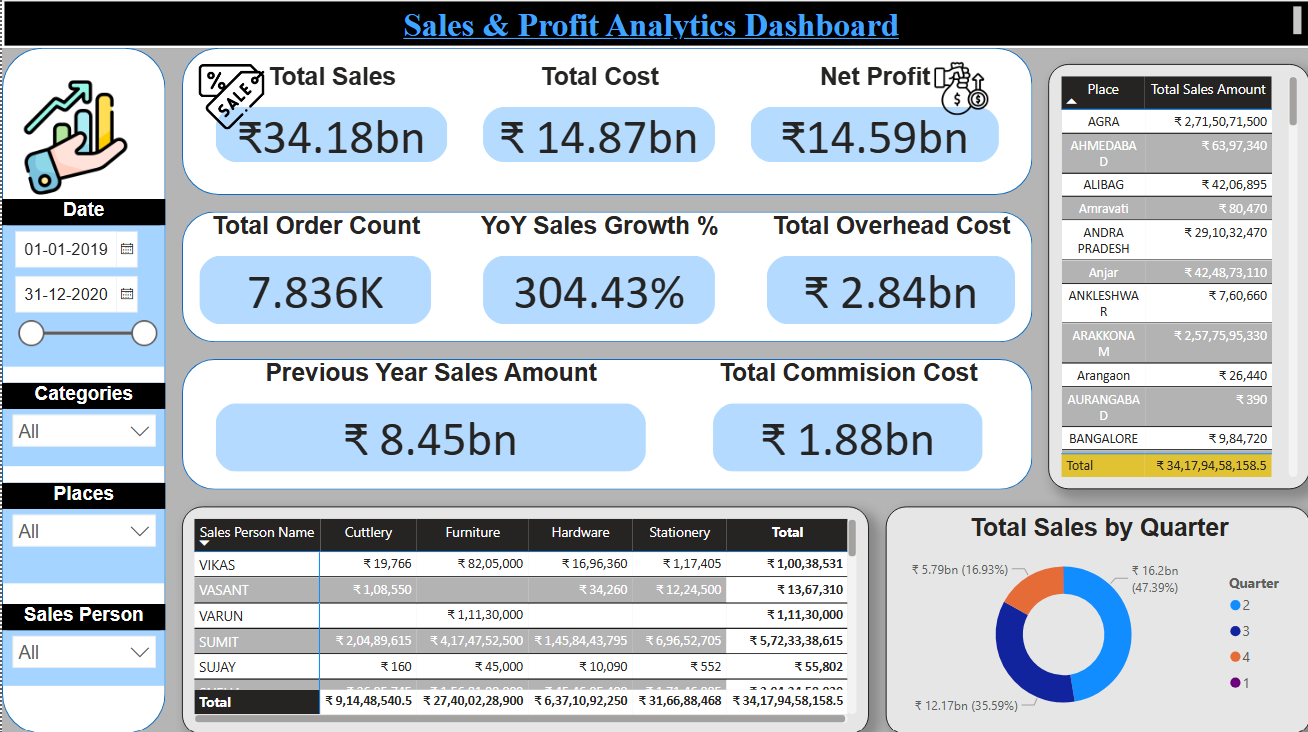

This screenshot's page, from the dashboard's own definition file:
{"tool":"powerbi","page":{"name":"KPI Reports","canvas":[1280,720],"ordinal":0},"visuals":[{"type":"textbox","box":[0,0,1280,48],"z":0},{"type":"shape","box":[0,48,160,672],"z":0,"group":"g4"},{"type":"group","id":"g1","title":"Group 4","box":[176,48,832,144],"z":0,"group":"g6"},{"type":"shape","box":[176,208,832,128],"z":0,"group":"g3"},{"type":"shape","box":[176,352,832,128],"z":0,"group":"g7"},{"type":"shape","box":[176,48,832,144],"z":1000,"group":"g1"},{"type":"image","box":[112,64,224,64],"z":1000,"group":"g6"},{"type":"pivotTable","fields":{"Values":["Fact_sales.Total Sales"],"Columns":["Fact_sales.Category"],"Rows":["Commission.Sales Person Name"]},"box":[176,496,672,224],"z":1000},{"type":"slicer","title":"Date","fields":{"Values":["Dim_Date.Date"]},"box":[0,195.5,160,163.9],"z":2000,"group":"g4"},{"type":"image","box":[640,272,224,64],"z":2000},{"type":"cardVisual","title":"Total Commision Cost","fields":{"Data":["Fact_sales.Total Commission"]},"box":[678.3,352,298.3,128],"z":2000,"group":"g7"},{"type":"cardVisual","title":"Total Sales","fields":{"Data":["Fact_sales.Total Sales"]},"box":[191.4,62.4,261.9,115.2],"z":3000,"group":"g1"},{"type":"cardVisual","title":"Previous Year Sales Amount","fields":{"Data":["Fact_sales.Sales SPLY"]},"box":[191.7,352,455.2,128],"z":3000,"group":"g7"},{"type":"donutChart","fields":{"Y":["Fact_sales.Total Sales"],"Category":["Fact_sales.Quarter"]},"box":[864,496,416,224],"z":3000},{"type":"tableEx","fields":{"Values":["Fact_sales.Place","Sum(Fact_sales.Taxable Value)"]},"box":[1024,64,256,416],"z":4000},{"type":"cardVisual","title":"Total Overhead Cost","fields":{"Data":["Apr.Total Overhead Cost"]},"box":[730.7,208,277.3,128],"z":4000,"group":"g3"},{"type":"group","id":"g2","title":"Group 2","box":[0,48,160,672],"z":5000},{"type":"cardVisual","title":"Total Cost","fields":{"Data":["Fact_sales.Total Cost"]},"box":[453.3,62.4,261.9,115.2],"z":5000,"group":"g1"},{"type":"image","box":[16,80,112,112],"z":6000},{"type":"group","id":"g3","title":"Group 3","box":[176,208,832,128],"z":7000},{"type":"slicer","title":"Categories","fields":{"Values":["Fact_sales.Category"]},"box":[0,375.8,160,82],"z":7001,"group":"g4"},{"type":"group","id":"g4","title":"Group 1","box":[0,48,160,672],"z":8000,"group":"g2"},{"type":"cardVisual","title":"Net Profit","fields":{"Data":["Fact_sales.Net Profit"]},"box":[715.3,62.4,277.3,115.2],"z":8000,"group":"g1"},{"type":"group","id":"g5","title":"Group 5","box":[176,352,832,128],"z":8000},{"type":"group","id":"g6","title":"Group 7","box":[112,48,896,144],"z":9000},{"type":"cardVisual","title":"YoY Sales Growth %","fields":{"Data":["Fact_sales.YoY Sales Growth %"]},"box":[453.3,208,261.9,128],"z":9000,"group":"g3"},{"type":"image","box":[843,61,192,53],"z":10000},{"type":"cardVisual","title":"Total Order Count","fields":{"Data":["Fact_sales.Order Count"]},"box":[176,208,261.9,128],"z":10000,"group":"g3"},{"type":"group","id":"g7","title":"Group 6","box":[176,352,832,128],"z":10002,"group":"g5"},{"type":"slicer","title":"Places","fields":{"Values":["Fact_sales.Place"]},"box":[0,474.1,160,98.3],"z":11000,"group":"g2"},{"type":"slicer","title":"Sales Person","fields":{"Values":["Fact_sales.Sales Person Name"]},"box":[0,592,160,80],"z":11000}]}

Visuals, with their boxes in screenshot pixels (x1, y1, x2, y2), scaled from the page's 1280x720 canvas onto the 1308x732 screenshot:
textbox: rect(0, 0, 1307, 49)
shape: rect(0, 49, 164, 731)
"Group 4" group: rect(180, 49, 1030, 195)
shape: rect(180, 211, 1030, 342)
shape: rect(180, 358, 1030, 488)
shape: rect(180, 49, 1030, 195)
image: rect(114, 65, 343, 130)
pivotTable - Fact_sales.Total Sales x Fact_sales.Category: rect(180, 504, 867, 731)
"Date" slicer: rect(0, 199, 164, 365)
image: rect(654, 277, 883, 342)
"Total Commision Cost" cardVisual: rect(693, 358, 998, 488)
"Total Sales" cardVisual: rect(196, 63, 463, 181)
"Previous Year Sales Amount" cardVisual: rect(196, 358, 661, 488)
donutChart - Fact_sales.Total Sales x Fact_sales.Quarter: rect(883, 504, 1307, 731)
tableEx - Fact_sales.Place x Sum(Fact_sales.Taxable Value): rect(1046, 65, 1307, 488)
"Total Overhead Cost" cardVisual: rect(747, 211, 1030, 342)
"Group 2" group: rect(0, 49, 164, 731)
"Total Cost" cardVisual: rect(463, 63, 731, 181)
image: rect(16, 81, 131, 195)
"Group 3" group: rect(180, 211, 1030, 342)
"Categories" slicer: rect(0, 382, 164, 465)
"Group 1" group: rect(0, 49, 164, 731)
"Net Profit" cardVisual: rect(731, 63, 1014, 181)
"Group 5" group: rect(180, 358, 1030, 488)
"Group 7" group: rect(114, 49, 1030, 195)
"YoY Sales Growth %" cardVisual: rect(463, 211, 731, 342)
image: rect(861, 62, 1058, 116)
"Total Order Count" cardVisual: rect(180, 211, 447, 342)
"Group 6" group: rect(180, 358, 1030, 488)
"Places" slicer: rect(0, 482, 164, 582)
"Sales Person" slicer: rect(0, 602, 164, 683)
